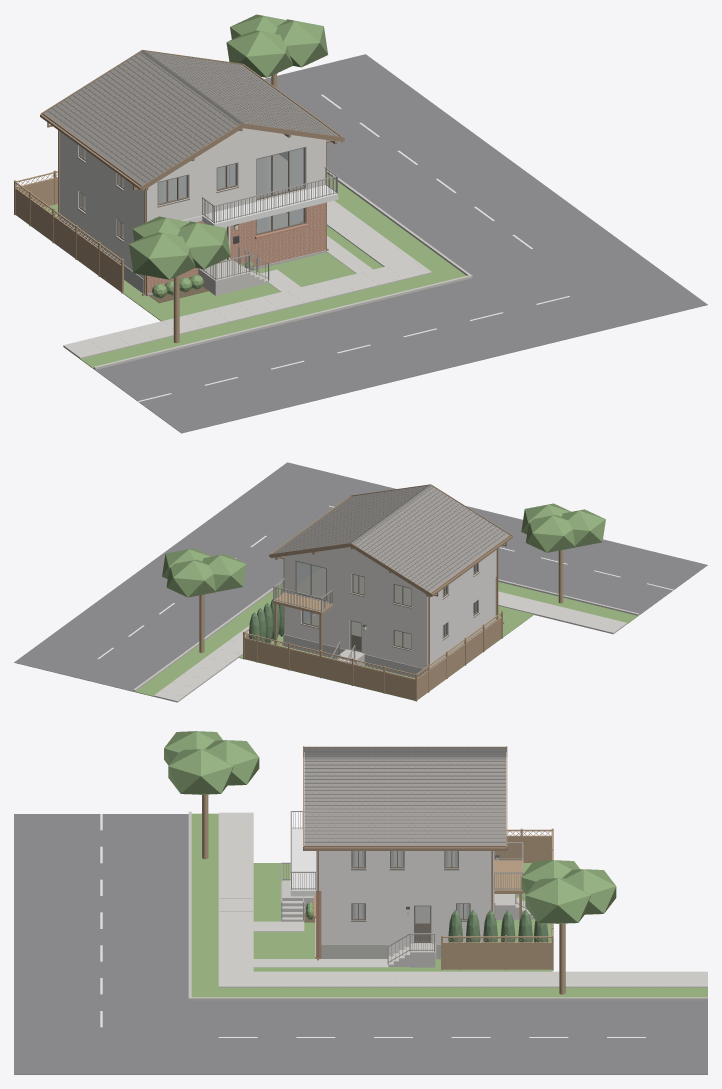
Rendered from clay-vancouver-special-clay-v001.glb.
3 views of the same model, one above another, from view 1: azimuth 30°, elevation 25°; view 2: azimuth 150°, elevation 25°; view 3: azimuth 270°, elevation 25° (orthographic). The views are drawn at different scales.
Visible parts, largest first — view 1: CLAY_ASPHALT, CLAY_ROOF, CLAY_WALL, CLAY_LAWN, CLAY_PLANTING, CLAY_PAVING, CLAY_ROOFLINE, CLAY_TIMBER, CLAY_BRICK, CLAY_CONCRETE, CLAY_GLASS, CLAY_WHITE (+7 smaller); view 2: CLAY_ASPHALT, CLAY_WALL, CLAY_ROOF, CLAY_TIMBER, CLAY_ROOFLINE, CLAY_PLANTING, CLAY_LAWN, CLAY_PAVING, CLAY_FASCIA, CLAY_GLASS, CLAY_FLOOR, CLAY_FOUNDATION (+4 smaller); view 3: CLAY_ASPHALT, CLAY_ROOF, CLAY_PAVING, CLAY_LAWN, CLAY_WALL, CLAY_ROOFLINE, CLAY_PLANTING, CLAY_TIMBER, CLAY_CONCRETE, CLAY_FASCIA, CLAY_CEDAR, CLAY_WHITE (+6 smaller).
Part boxes in pixels (left/top/right/bottom): CLAY_ASPHALT: left=95, top=54, right=707, bottom=433; CLAY_ROOF: left=44, top=51, right=339, bottom=185; CLAY_WALL: left=60, top=128, right=325, bottom=278; CLAY_LAWN: left=16, top=174, right=466, bottom=368; CLAY_PLANTING: left=129, top=14, right=328, bottom=298; CLAY_PAVING: left=63, top=200, right=431, bottom=358; CLAY_ROOFLINE: left=48, top=50, right=335, bottom=183; CLAY_TIMBER: left=14, top=73, right=277, bottom=343; CLAY_BRICK: left=146, top=202, right=325, bottom=295; CLAY_CONCRETE: left=94, top=170, right=472, bottom=369; CLAY_GLASS: left=81, top=147, right=303, bottom=237; CLAY_WHITE: left=138, top=94, right=569, bottom=401; CLAY_ASPHALT: left=14, top=462, right=707, bottom=691; CLAY_WALL: left=284, top=547, right=496, bottom=669; CLAY_ROOF: left=273, top=485, right=509, bottom=592; CLAY_TIMBER: left=199, top=550, right=563, bottom=701; CLAY_ROOFLINE: left=276, top=485, right=506, bottom=590; CLAY_PLANTING: left=162, top=503, right=605, bottom=618; CLAY_LAWN: left=135, top=582, right=637, bottom=700; CLAY_PAVING: left=153, top=591, right=627, bottom=702; CLAY_FASCIA: left=269, top=484, right=512, bottom=668; CLAY_GLASS: left=297, top=561, right=476, bottom=648; CLAY_FLOOR: left=297, top=568, right=473, bottom=648; CLAY_FOUNDATION: left=283, top=619, right=495, bottom=677; CLAY_ASPHALT: left=14, top=814, right=707, bottom=1074; CLAY_ROOF: left=304, top=747, right=505, bottom=845; CLAY_PAVING: left=218, top=812, right=707, bottom=987; CLAY_LAWN: left=191, top=813, right=707, bottom=997; CLAY_WALL: left=316, top=851, right=494, bottom=958; CLAY_ROOFLINE: left=304, top=748, right=505, bottom=842; CLAY_PLANTING: left=164, top=731, right=616, bottom=923; CLAY_TIMBER: left=202, top=794, right=565, bottom=994; CLAY_CONCRETE: left=188, top=811, right=707, bottom=1000; CLAY_FASCIA: left=303, top=746, right=507, bottom=960; CLAY_CEDAR: left=448, top=909, right=548, bottom=942; CLAY_WHITE: left=100, top=814, right=645, bottom=1037.
Bounding box in the file's own units: 31.75 × 8.98 × 35.75.
